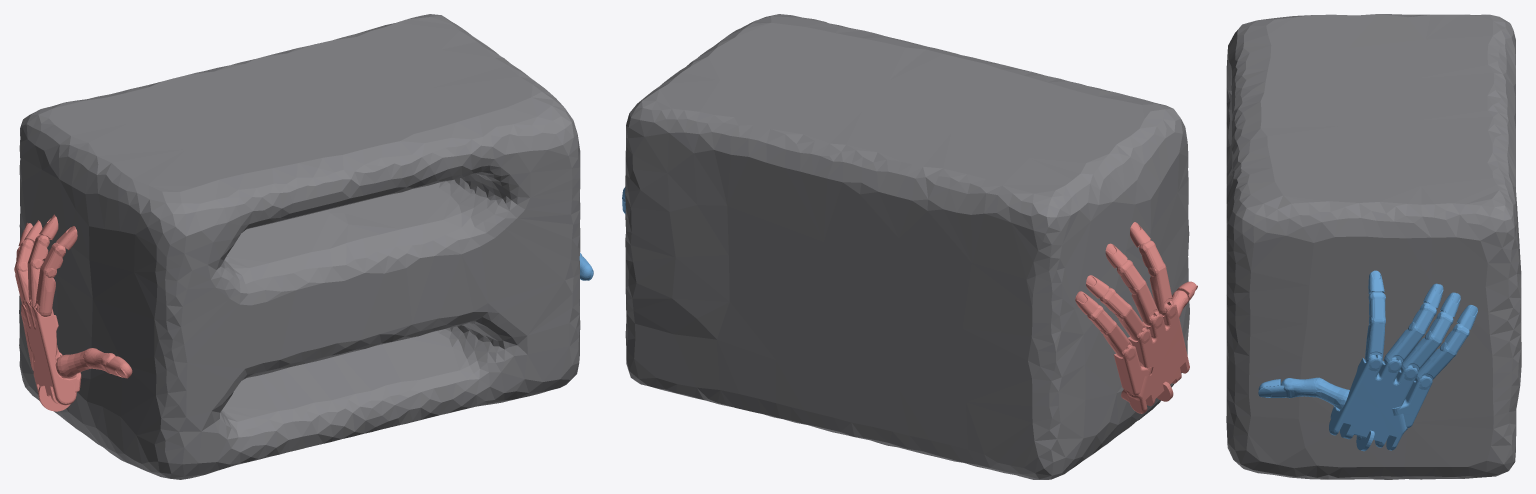
Rendered from toaster.glb.
3 renders of one model, left to right at view 1: azimuth 30°, elevation 25°; view 2: azimuth 150°, elevation 25°; view 3: azimuth 270°, elevation 25°, orthographic. The views are drawn at different scales.
Visible parts, largest first — view 1: object_mesh, left_shadow_hand; view 2: object_mesh, left_shadow_hand; view 3: object_mesh, right_shadow_hand.
Part boxes in pixels (bbox=[...]): object_mesh: bbox=[19, 14, 580, 479]; left_shadow_hand: bbox=[14, 214, 132, 411]; object_mesh: bbox=[625, 14, 1189, 479]; left_shadow_hand: bbox=[1075, 222, 1197, 413]; object_mesh: bbox=[1226, 14, 1521, 479]; right_shadow_hand: bbox=[1258, 270, 1477, 451].
Bounding box in the file's own units: 0.6613 × 0.3418 × 0.33.
